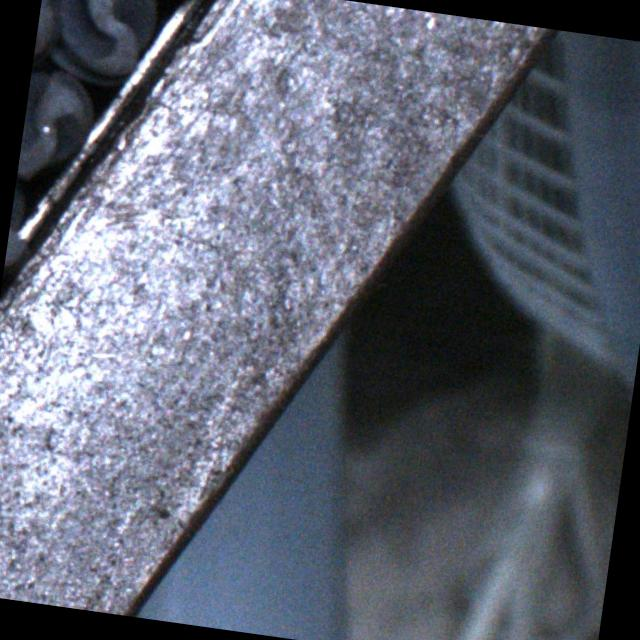tool_b: (44, 0, 161, 91), (17, 66, 96, 186)
